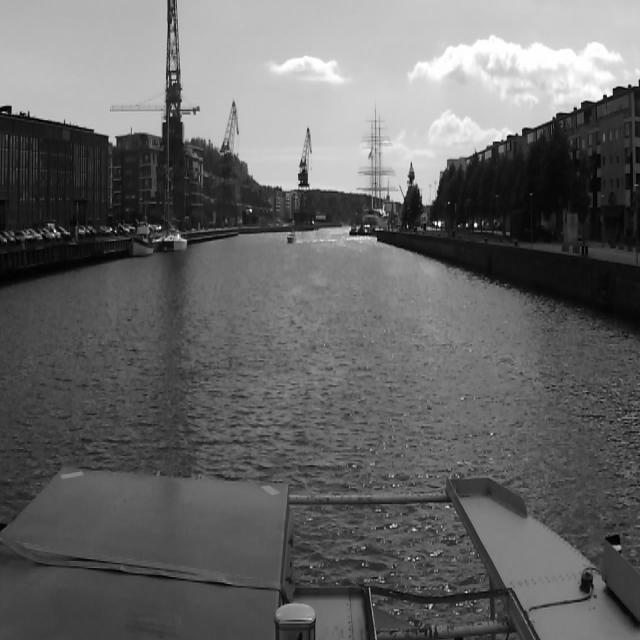ship: (152, 71, 194, 250), (356, 104, 399, 225), (128, 217, 154, 260), (286, 227, 296, 244)
